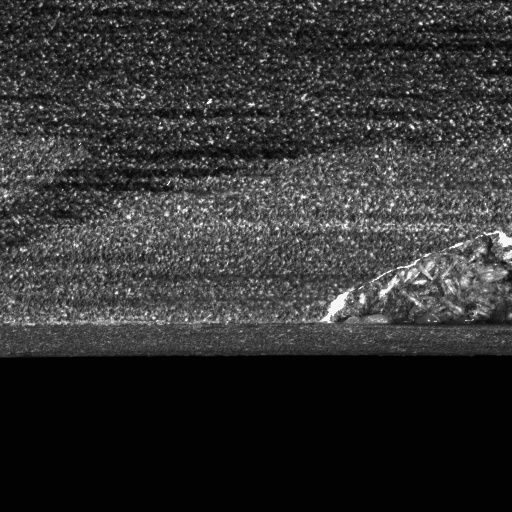bengque: (326, 226, 511, 323)
